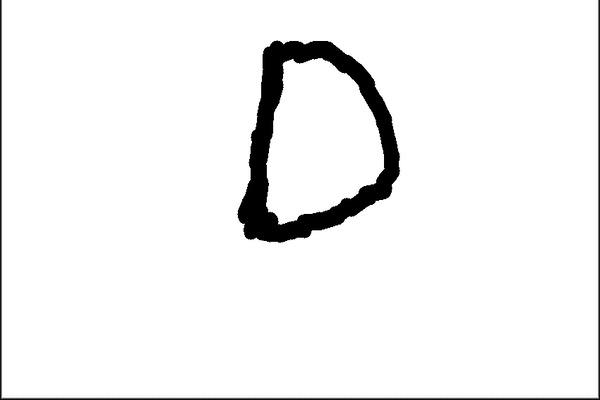D: (232, 31, 410, 250)
